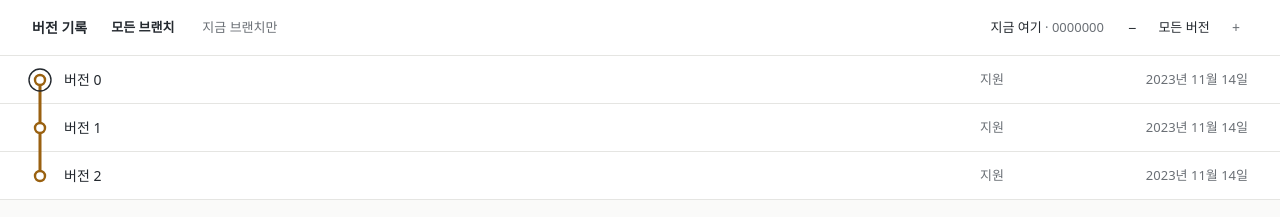
Test: 여러 역 선택 › Shift+클릭은 그 역까지 고른다
Press the mouse on the list at (640,128), box 0,56 -> 1279,200
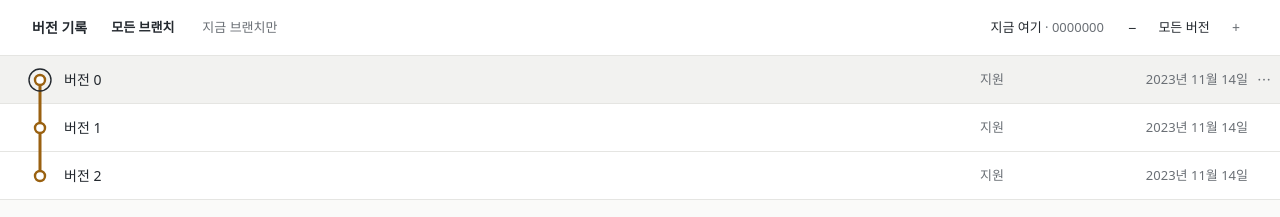
Press the mouse on the list at (640,128), box 0,56 -> 1279,200
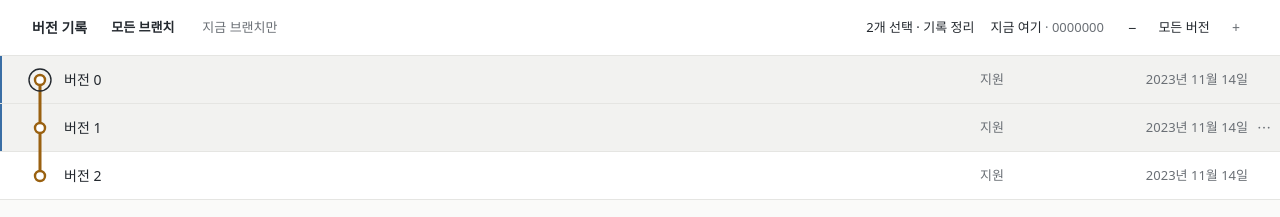
Result: the button "2개 선택 · 기록 정리" is shown at 866,14 -> 974,41
